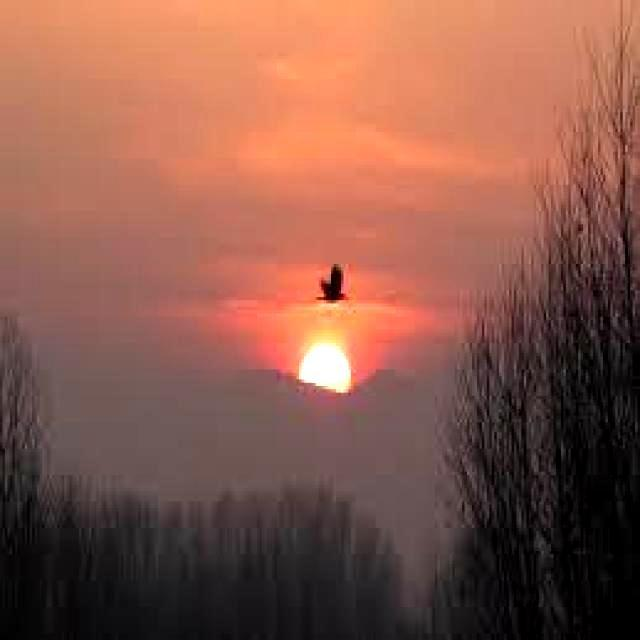bird: (310, 258, 350, 305)
